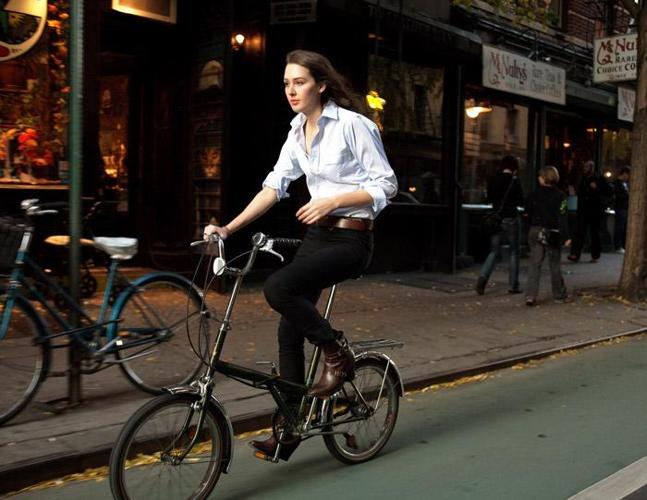person: (201, 54, 401, 460)
